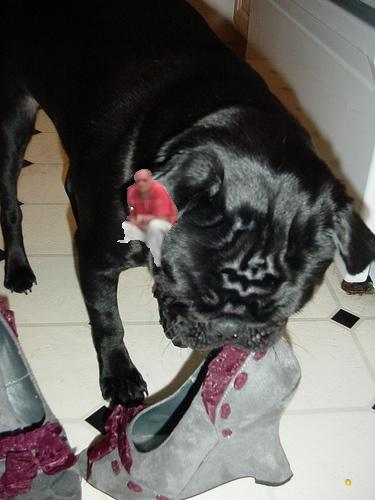tampered: (118, 170, 178, 267)
